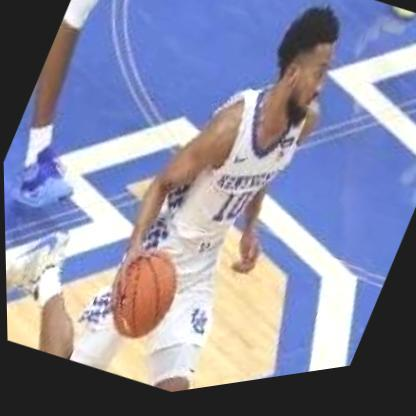basketball: (90, 237, 194, 366)
